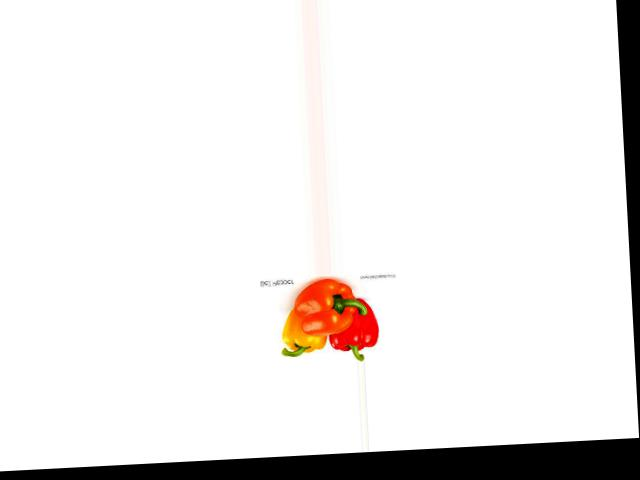bell_pepper: (277, 305, 330, 360)
